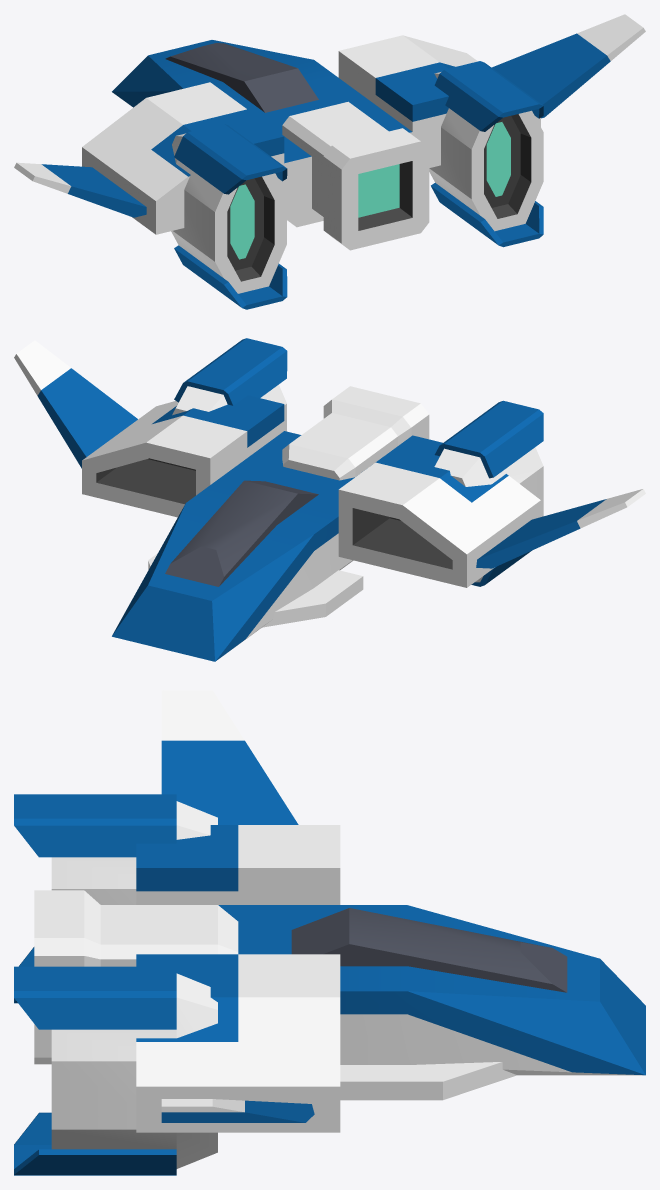
Rendered from spacecraft.model.fbx.
The picture shows the model from 3 angles, top to bottom: view 1: azimuth 30°, elevation 25°; view 2: azimuth 150°, elevation 25°; view 3: azimuth 270°, elevation 25°; orthographic projection. The views are drawn at different scales.
Parts seen in each view (by area): view 1: (0.0, 0.0, 0.0) (×10); view 2: (0.0, 0.0, 0.0) (×11); view 3: (0.0, 0.0, 0.0) (×11).
Boxes of the visible parts, bbox=[...] form: (0.0, 0.0, 0.0) (×10): bbox=[14, 14, 645, 309]; (0.0, 0.0, 0.0) (×11): bbox=[14, 338, 645, 661]; (0.0, 0.0, 0.0) (×11): bbox=[14, 690, 645, 1175].
Size of the model in its own units: 47.82 by 10 by 31.
